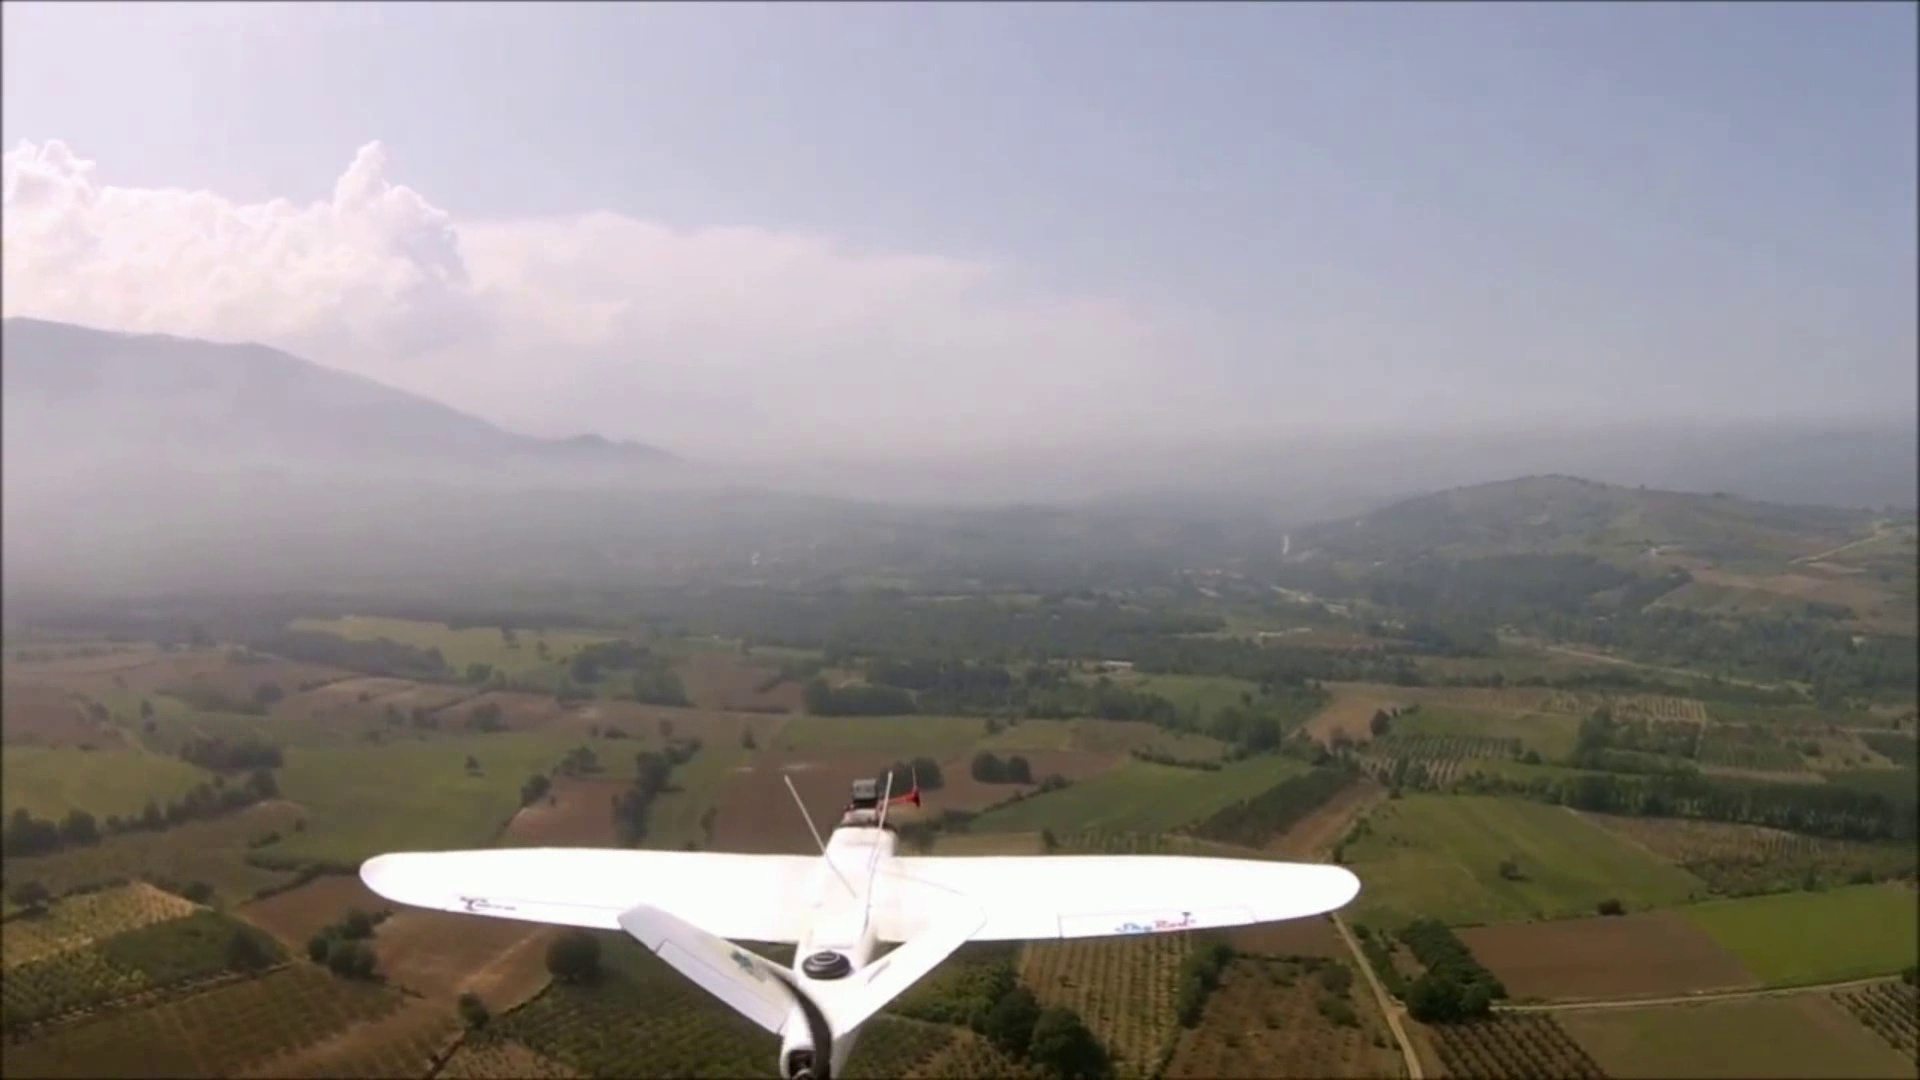airplane: (357, 762, 1367, 1069)
